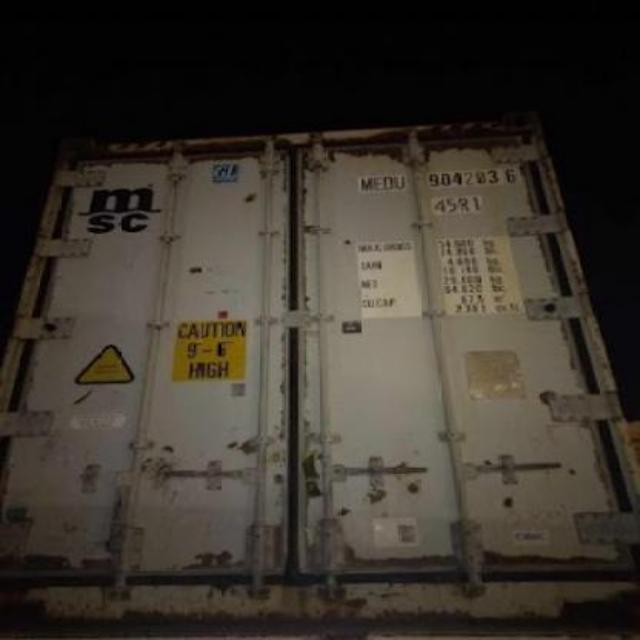0: (440, 172, 452, 188), (476, 170, 488, 186)
2: (464, 169, 474, 187)
3: (486, 170, 499, 183)
4: (454, 172, 464, 184)
6: (504, 170, 518, 183)
9: (428, 172, 440, 188)
D: (384, 177, 394, 190)
E: (372, 176, 384, 192)
M: (358, 178, 372, 190)
U: (394, 177, 408, 190)
